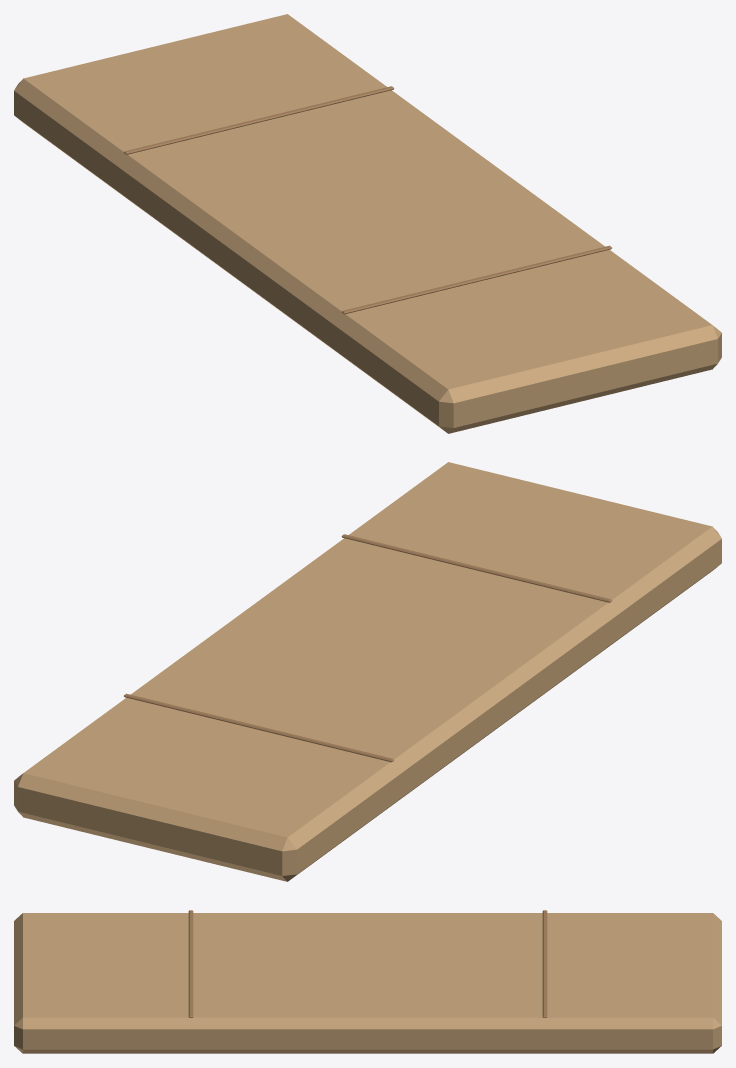
3 views of the same model, one above another, from view 1: azimuth 30°, elevation 25°; view 2: azimuth 150°, elevation 25°; view 3: azimuth 270°, elevation 25° (orthographic). The views are drawn at different scales.
Visible parts, largest first — view 1: LOD2_BOARDWALK_STRAIGHT_Deck, LOD2_BOARDWALK_STRAIGHT_PlankGap_02, LOD2_BOARDWALK_STRAIGHT_PlankGap_01; view 2: LOD2_BOARDWALK_STRAIGHT_Deck, LOD2_BOARDWALK_STRAIGHT_PlankGap_01, LOD2_BOARDWALK_STRAIGHT_PlankGap_02; view 3: LOD2_BOARDWALK_STRAIGHT_Deck, LOD2_BOARDWALK_STRAIGHT_PlankGap_01, LOD2_BOARDWALK_STRAIGHT_PlankGap_02.
Part boxes in pixels (bbox=[...]): LOD2_BOARDWALK_STRAIGHT_Deck: bbox=[14, 14, 721, 433]; LOD2_BOARDWALK_STRAIGHT_PlankGap_02: bbox=[123, 86, 394, 154]; LOD2_BOARDWALK_STRAIGHT_PlankGap_01: bbox=[341, 245, 611, 314]; LOD2_BOARDWALK_STRAIGHT_Deck: bbox=[14, 462, 721, 881]; LOD2_BOARDWALK_STRAIGHT_PlankGap_01: bbox=[341, 534, 612, 602]; LOD2_BOARDWALK_STRAIGHT_PlankGap_02: bbox=[124, 693, 394, 762]; LOD2_BOARDWALK_STRAIGHT_Deck: bbox=[14, 913, 721, 1053]; LOD2_BOARDWALK_STRAIGHT_PlankGap_01: bbox=[188, 910, 193, 1017]; LOD2_BOARDWALK_STRAIGHT_PlankGap_02: bbox=[542, 910, 547, 1017].
Size of what is drawn, in the model's own units: 3 by 0.4775 by 8.
